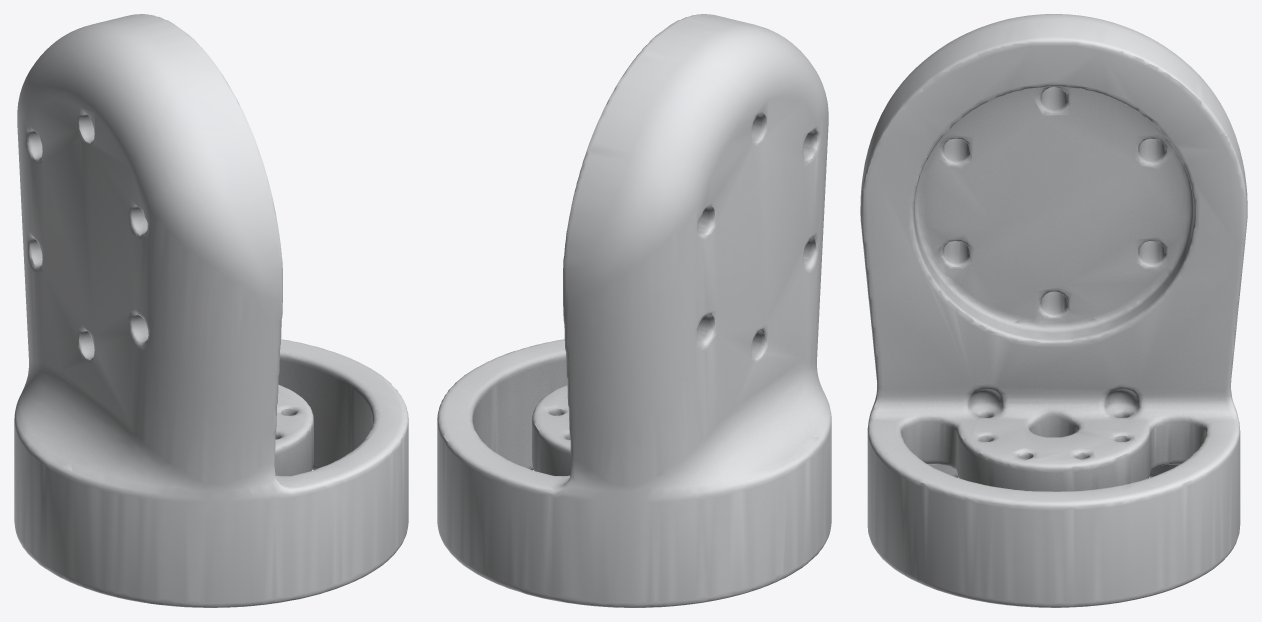
Rendered from right_S_to_Bisecp.glb.
3 views of the same model, side by side, from view 1: azimuth 30°, elevation 25°; view 2: azimuth 150°, elevation 25°; view 3: azimuth 270°, elevation 25° (orthographic). The views are drawn at different scales.
Parts seen in each view (by area): view 1: right_S_to_Bisecp; view 2: right_S_to_Bisecp; view 3: right_S_to_Bisecp.
Part boxes in pixels (x1,y1,x2,y2): right_S_to_Bisecp: (14,14,408,607); right_S_to_Bisecp: (437,14,831,607); right_S_to_Bisecp: (860,14,1247,607).
Bounding box in the file's own units: 0.0644 × 0.0912 × 0.0669.
1 material, 1 textured.
